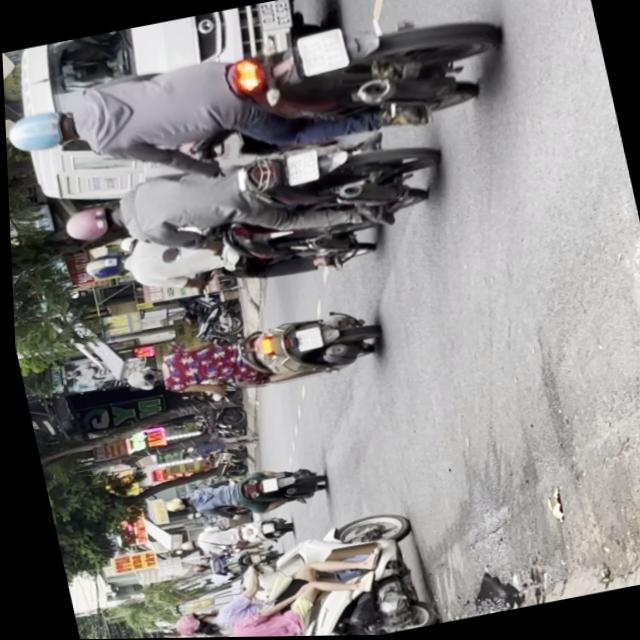helmet: (4, 101, 82, 157), (56, 199, 123, 246), (79, 249, 129, 283), (164, 606, 213, 638)
licenseplate: (0, 0, 514, 203), (49, 119, 448, 281), (149, 505, 439, 638), (75, 195, 387, 316), (114, 301, 384, 414)
motorcyclist: (121, 364, 161, 392), (183, 630, 230, 638)
nohelmet: (296, 28, 348, 76), (281, 148, 321, 185), (290, 325, 320, 351)
